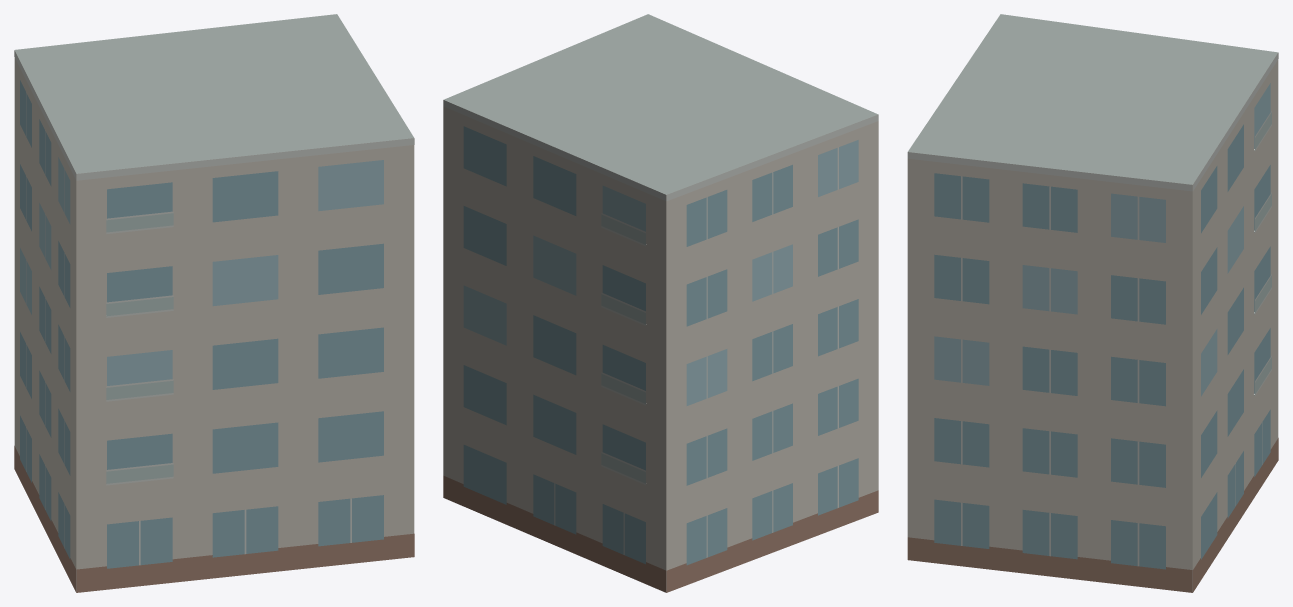
The model's file is survey-upis-32956029.glb.
3 renders of one model, left to right at view 1: azimuth 30°, elevation 25°; view 2: azimuth 150°, elevation 25°; view 3: azimuth 270°, elevation 25°, orthographic. The views are drawn at different scales.
Parts seen in each view (by area): view 1: survey-upis-32956029.tmp; view 2: survey-upis-32956029.tmp; view 3: survey-upis-32956029.tmp.
Boxes of the visible parts, x1,y1,x2,y2 form: survey-upis-32956029.tmp: (14, 14, 414, 592); survey-upis-32956029.tmp: (443, 14, 878, 592); survey-upis-32956029.tmp: (907, 14, 1278, 592).
Bounding box in the file's own units: 13.48 × 15 × 12.37.
